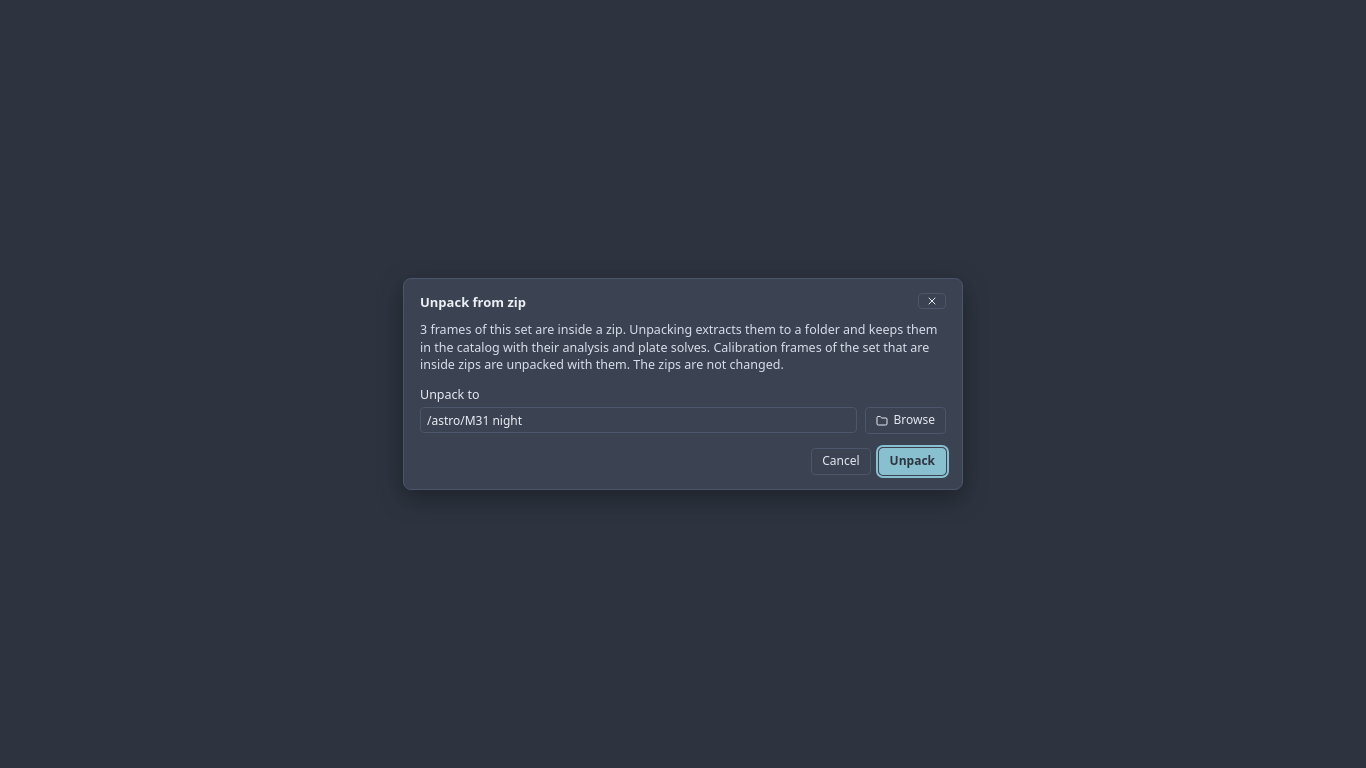
it: UnpackZipDialog › notifies once for a run whose finished event and result both arrive
Click the button "Unpack" at coordinates (912, 462), box [879, 448, 946, 475]
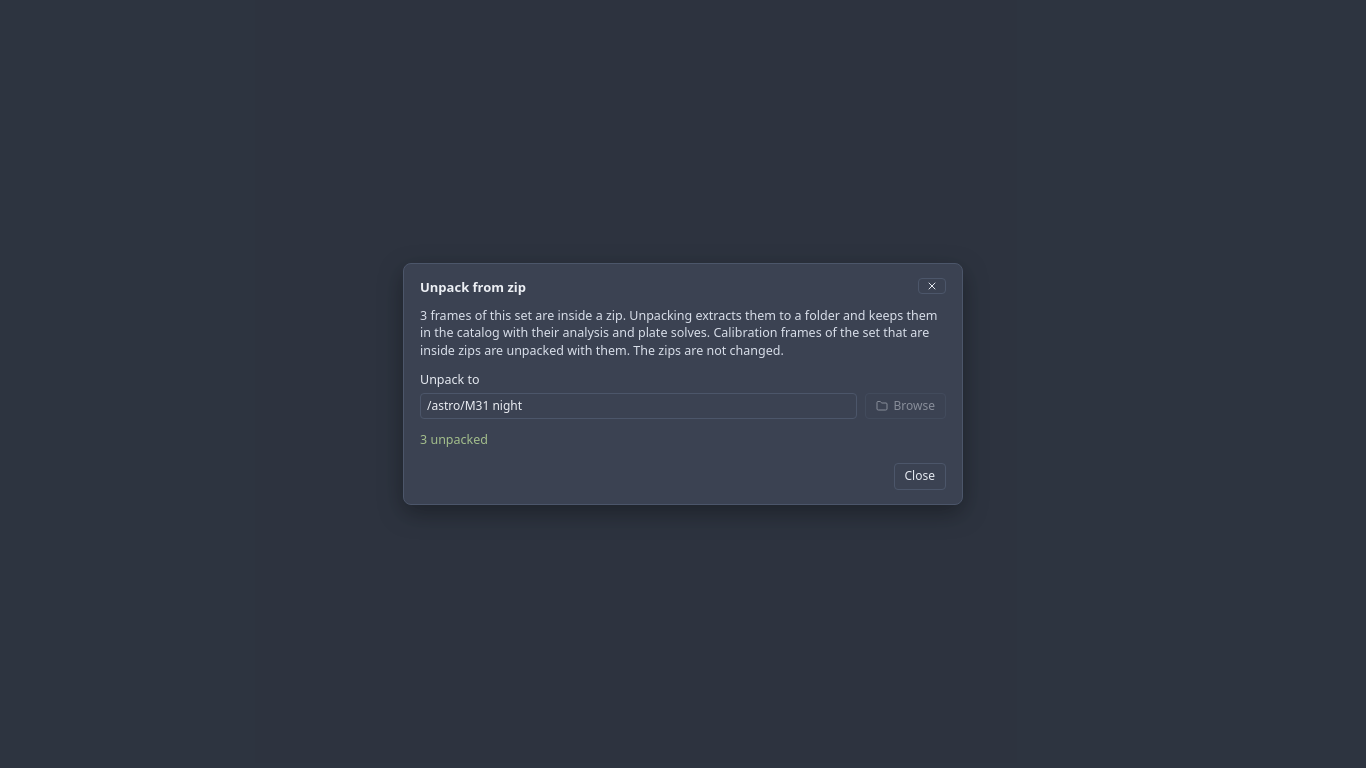
Expected: the text "3 unpacked" is shown, [420, 431, 488, 448]
